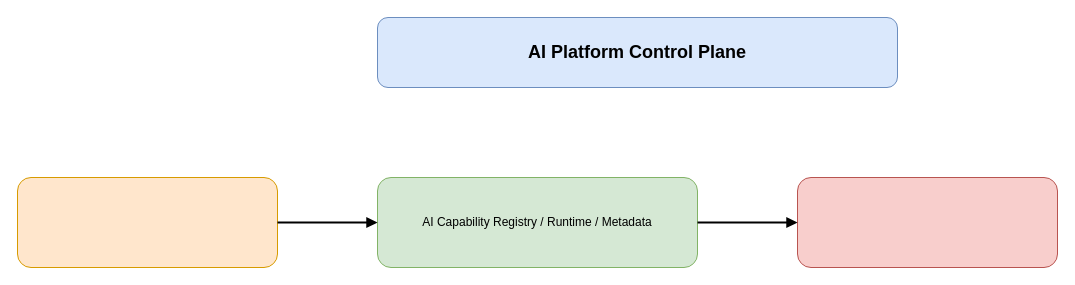
This 1075x285 diagram has some shape labels left out. Each missing label, with the box of its shape:
AI Orchestrator / Security: (16, 176, 278, 268)
Observability / Audit: (796, 176, 1058, 268)
